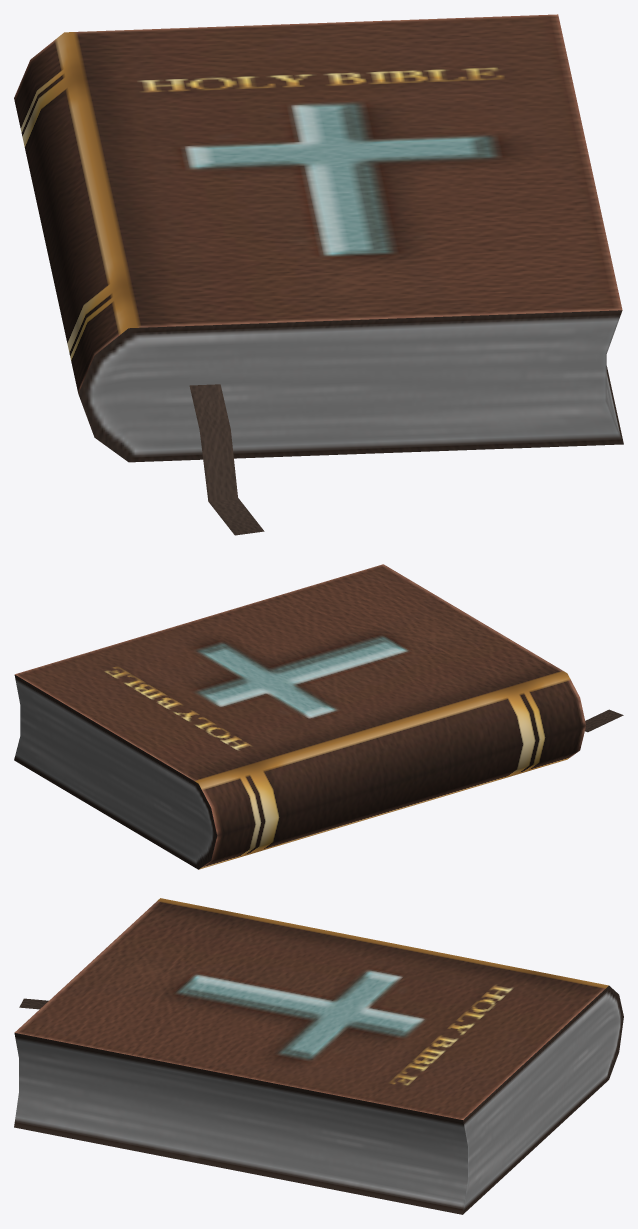
The model's file is TianZhuJiaoTang_01_shengjing_01.FBX.
3 renders of one model, top to bottom at view 1: azimuth 30°, elevation 25°; view 2: azimuth 150°, elevation 25°; view 3: azimuth 270°, elevation 25°, orthographic. The views are drawn at different scales.
Visible parts, largest first — view 1: TianZhuJiaoTang_01_shengjing_01; view 2: TianZhuJiaoTang_01_shengjing_01; view 3: TianZhuJiaoTang_01_shengjing_01.
Part boxes in pixels (box(x1,y1,x2,y2)): TianZhuJiaoTang_01_shengjing_01: box(14, 14, 623, 535); TianZhuJiaoTang_01_shengjing_01: box(14, 564, 623, 869); TianZhuJiaoTang_01_shengjing_01: box(14, 898, 623, 1214).
Size of the model in its own units: 222 by 42.81 by 243.
